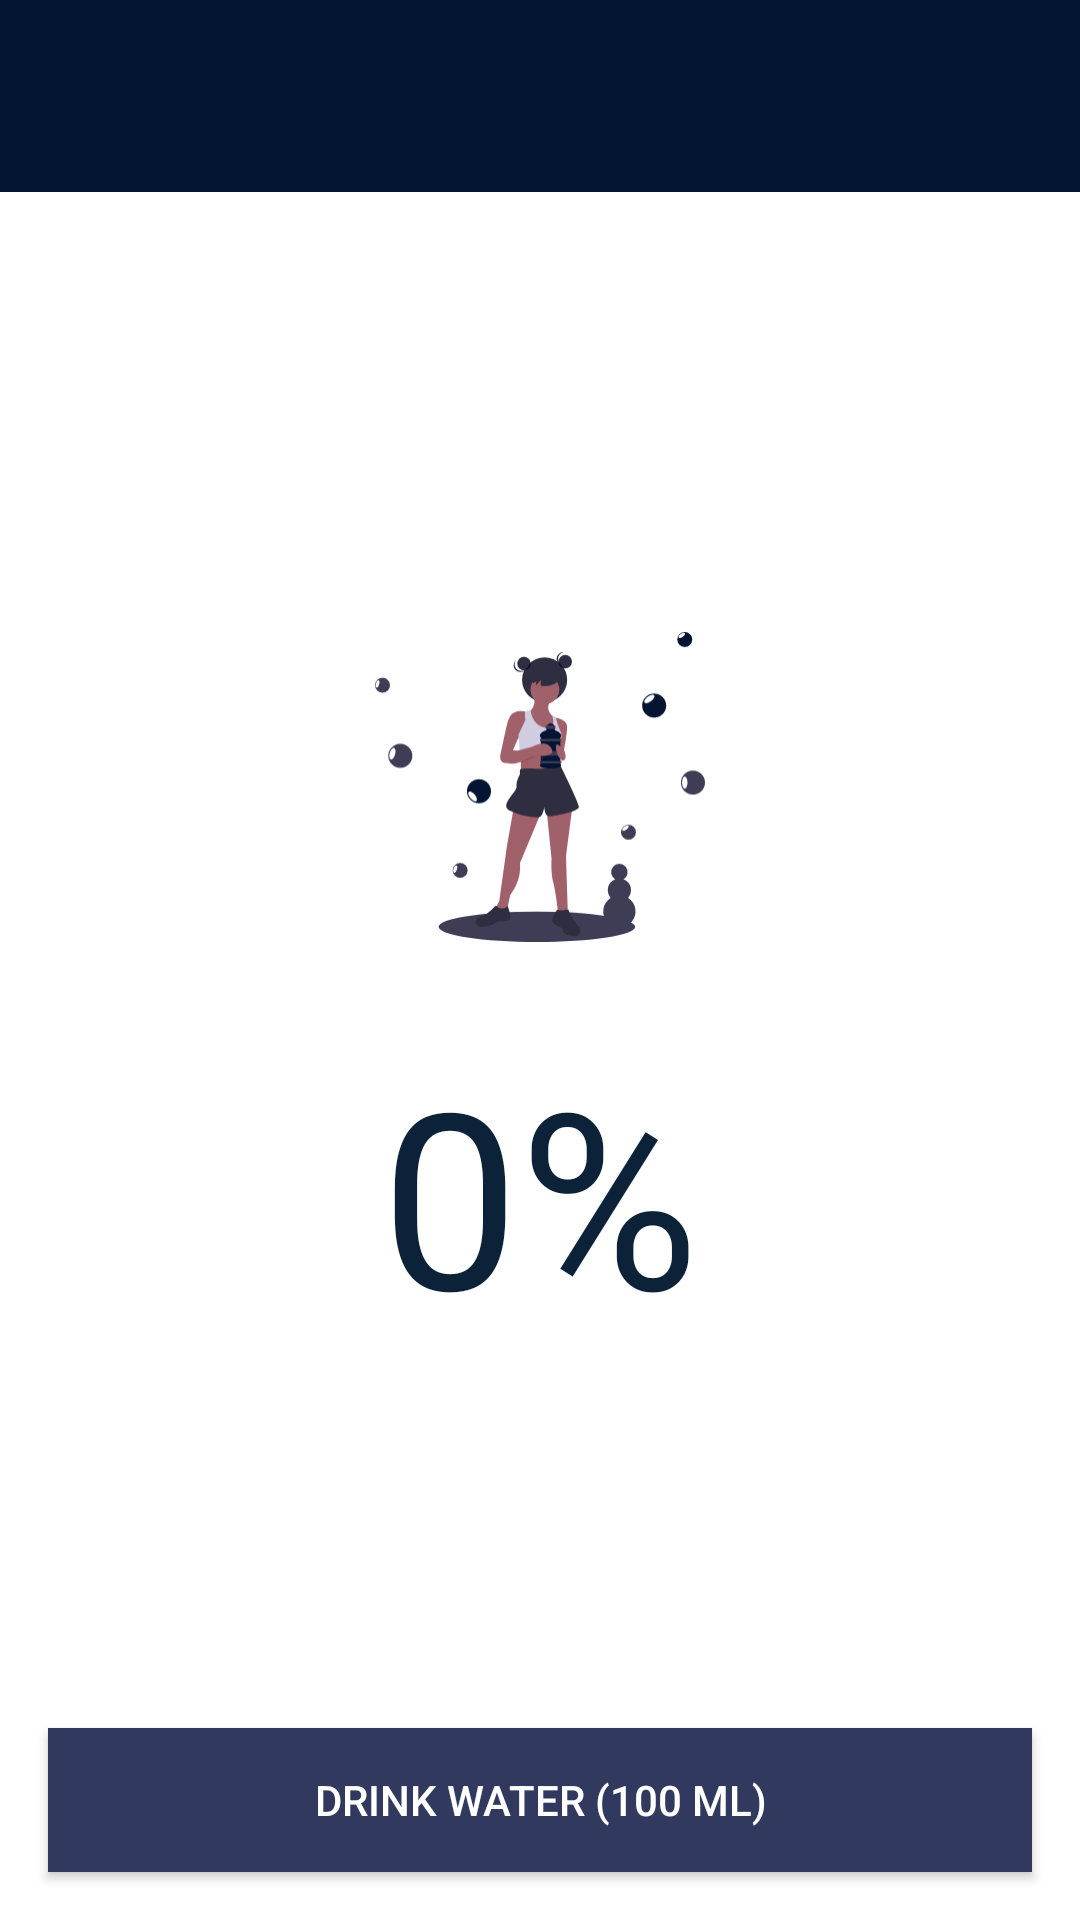

Locate icon controls on the screen. Image size 1080 x 1920, boxes as [x1,y1,x2,y2].
Water drank: [375,632,705,942]
